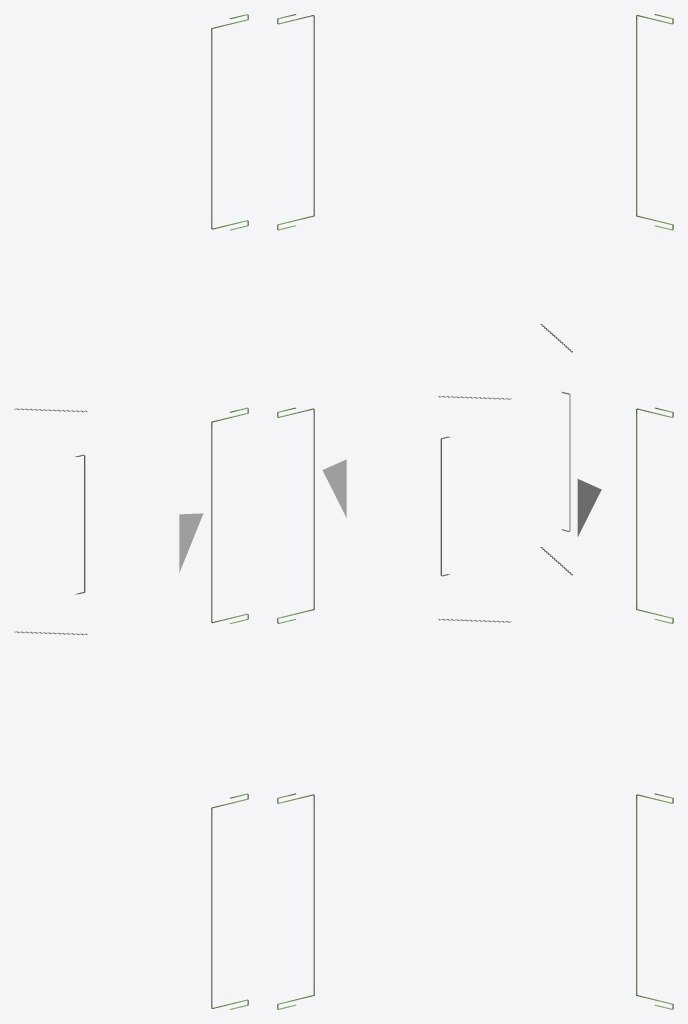
Rendered from SM_000531_merge_wall01__002.fbx.
3 renders of one model, left to right at view 1: azimuth 30°, elevation 25°; view 2: azimuth 210°, elevation 25°; view 3: azimuth 330°, elevation 25°, orthographic.
Parts seen in each view (by area): view 1: SM_000531.001; view 2: SM_000531.001; view 3: SM_000531.001.
Boxes of the visible parts, x1,y1,x2,y2 form: SM_000531.001: (14,14,248,1009); SM_000531.001: (277,14,511,1009); SM_000531.001: (540,14,673,1009).
Size of the model in its own units: 18.15 by 93.78 by 10.97.
